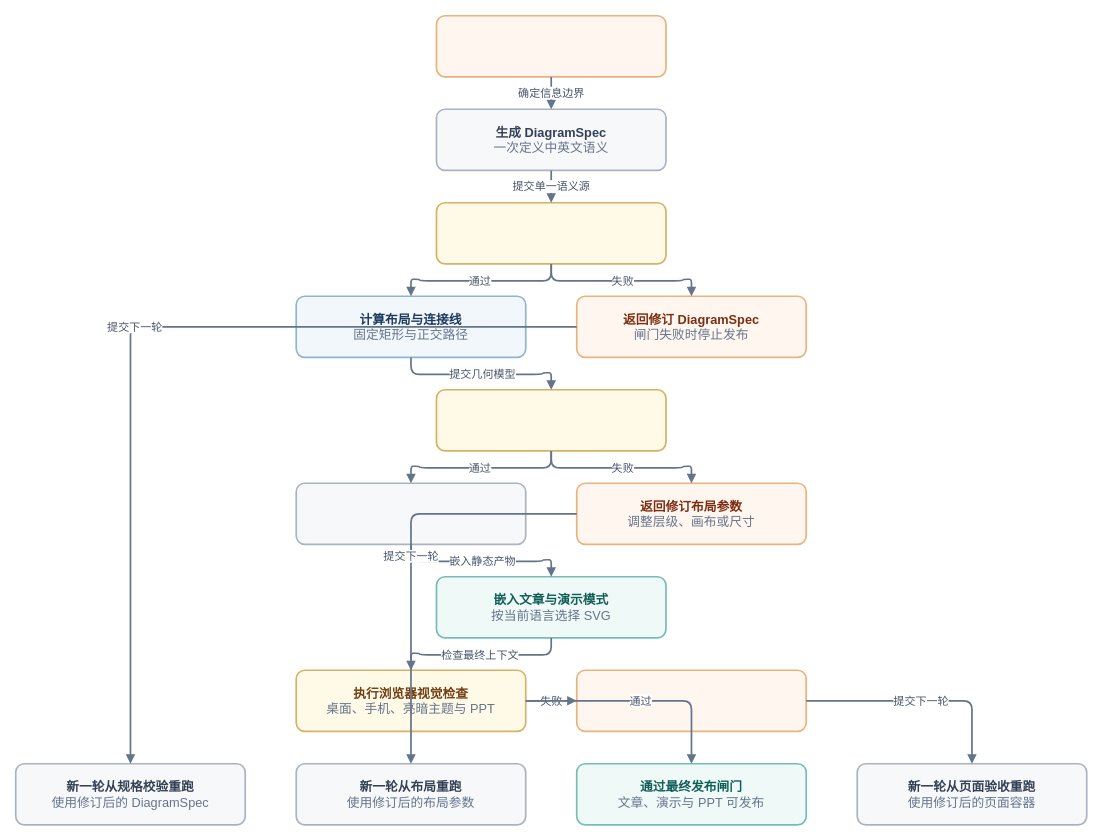
Image size: 1102x840. Some labels were removed from this diagram. Here are the shapes that lost their labels. From the top down, the box of each, then its label:
(435, 14, 666, 77): 识别文章中的绘图需求 架构图或流程图
(435, 201, 666, 264): 执行编译前校验 schema、双语、引用与循环
(435, 388, 666, 451): 执行布局后检查 逐对检查节点重叠
(295, 482, 526, 545): 写入三份图表资产 Draw.io + 中文 SVG + 英文 SVG
(575, 669, 807, 732): 返回修订页面容器 修复截断或导航侵入
